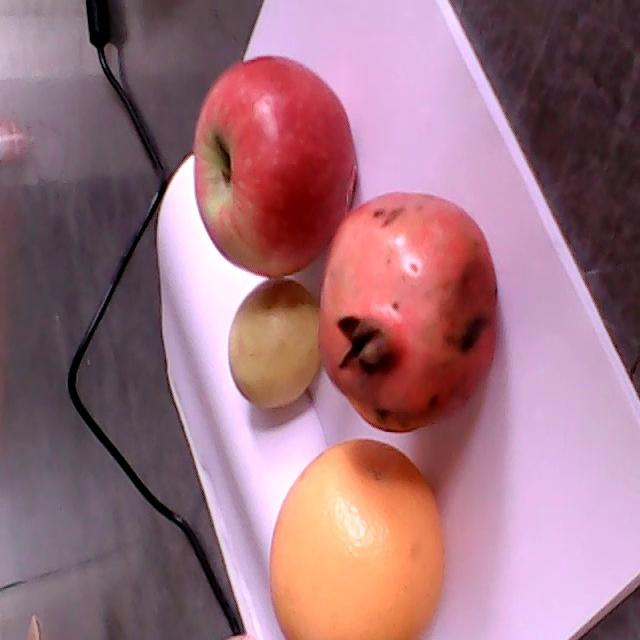apple: (195, 57, 356, 278)
lemon: (227, 274, 319, 412)
orange: (269, 437, 445, 637)
pomegranate: (318, 193, 500, 431)
